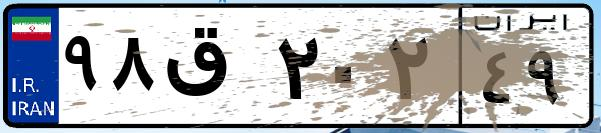0: (330, 28, 385, 110)
2: (270, 28, 330, 110), (385, 28, 445, 110)
4: (475, 38, 525, 113)
8: (110, 28, 158, 98)
9: (57, 26, 110, 100), (525, 38, 570, 115)
ق: (158, 20, 270, 120)
